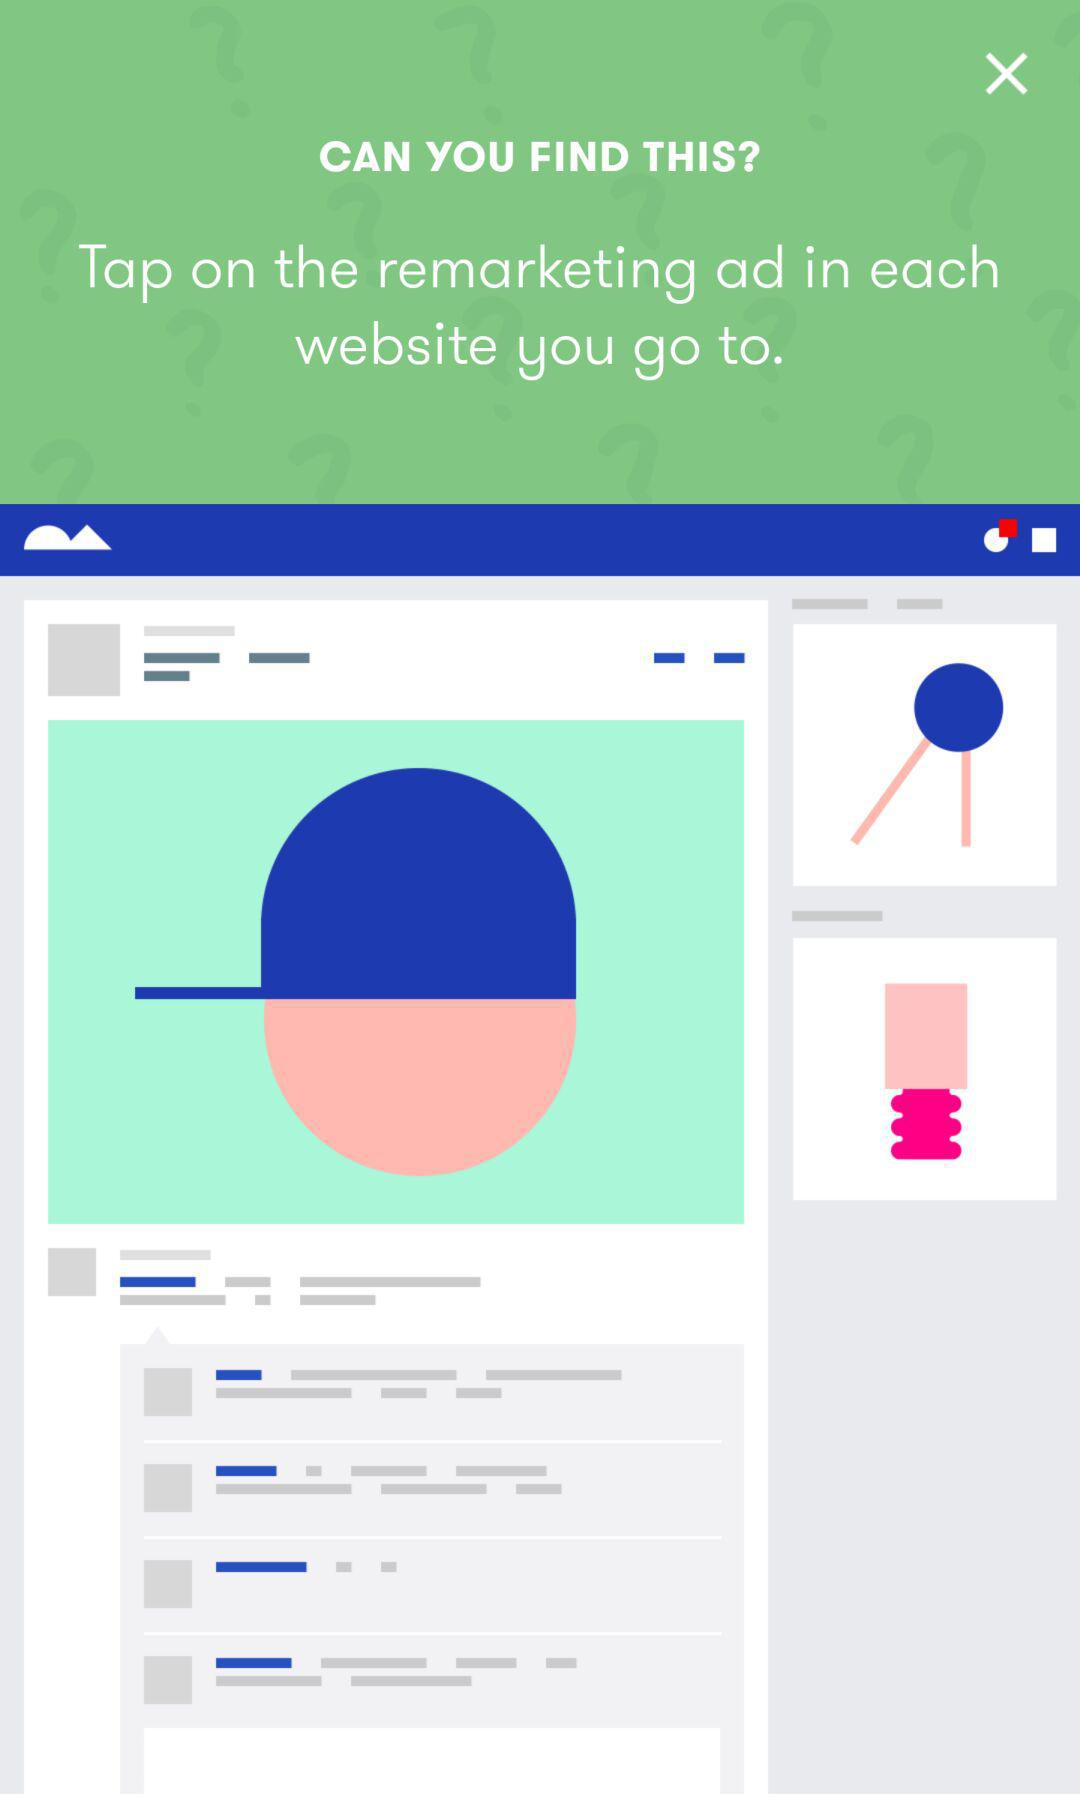Icon: (984, 53, 1029, 97)
Image: (1, 505, 1080, 1794)
Text: (79, 243, 999, 383), (320, 141, 761, 174)
